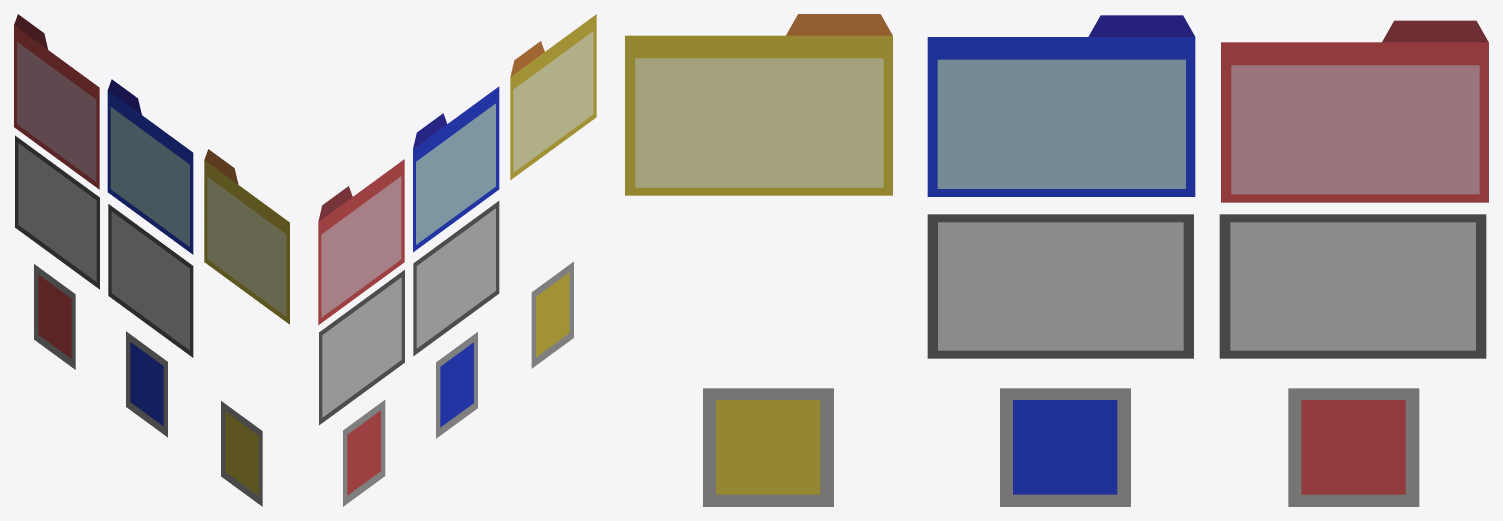
Rendered from 0505dreamfolders.fbx.
The picture shows the model from 3 angles, left to right: view 1: azimuth 30°, elevation 25°; view 2: azimuth 150°, elevation 25°; view 3: azimuth 270°, elevation 25°; orthographic projection. The views are drawn at different scales.
Visible parts, largest first — view 1: window2.001, window2, window2.002, window4.001, window4, Plane.001, Plane, Plane.002; view 2: window2.001, window2, window2.002, window4.001, window4, Plane.002, Plane, Plane.001; view 3: window2, window2.002, window2.001, window4, window4.001, Plane, Plane.001, Plane.002.
Boxes of the visible parts, box(x1,y1,x2,y2) form: window2.001: box(107, 79, 193, 254); window2: box(14, 14, 99, 189); window2.002: box(204, 149, 289, 324); window4.001: box(108, 204, 193, 357); window4: box(15, 135, 99, 289); Plane.001: box(126, 331, 167, 437); Plane: box(34, 264, 75, 369); Plane.002: box(221, 401, 262, 506); window2.001: box(413, 86, 499, 252); window2: box(318, 159, 404, 324); window2.002: box(510, 14, 596, 179); window4.001: box(413, 201, 499, 355); window4: box(319, 270, 404, 425); Plane.002: box(531, 261, 573, 368); Plane: box(343, 400, 385, 506); Plane.001: box(436, 332, 477, 438); window2: box(1221, 20, 1488, 202); window2.002: box(625, 14, 892, 195); window2.001: box(927, 15, 1195, 196); window4: box(1219, 214, 1486, 358); window4.001: box(927, 214, 1193, 358); Plane: box(1288, 388, 1419, 506); Plane.001: box(1000, 388, 1130, 506); Plane.002: box(703, 388, 833, 506).
Size of the model in its own units: 2.6 by 343 by 542.
